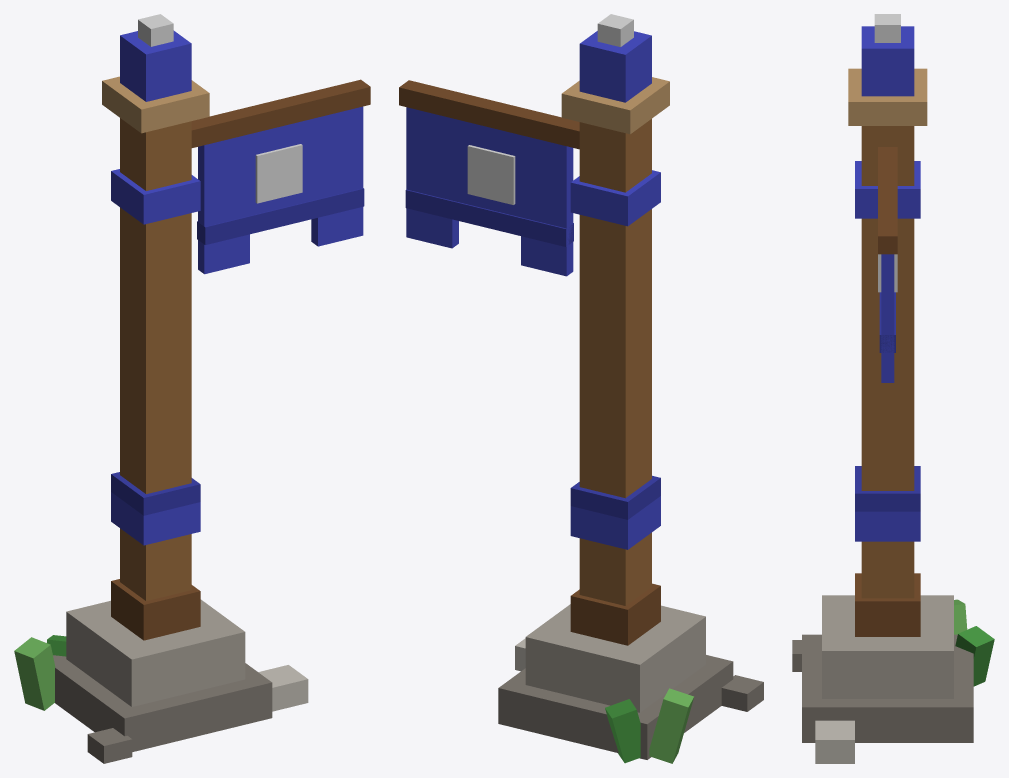
The model's file is territory-marker-bat.glb.
3 views of the same model, side by side, from view 1: azimuth 30°, elevation 25°; view 2: azimuth 150°, elevation 25°; view 3: azimuth 270°, elevation 25° (orthographic).
Visible parts, largest first — view 1: marker-post, banner; view 2: marker-post, banner; view 3: marker-post, banner.
Boxes of the visible parts, bbox=[...] form: marker-post: bbox=[14, 14, 308, 763]; banner: bbox=[191, 79, 370, 274]; marker-post: bbox=[498, 14, 763, 763]; banner: bbox=[399, 80, 579, 276]; marker-post: bbox=[792, 14, 994, 763]; banner: bbox=[878, 147, 897, 382].
Bounding box in the file's own units: 0.5581 × 1.15 × 0.3071.
